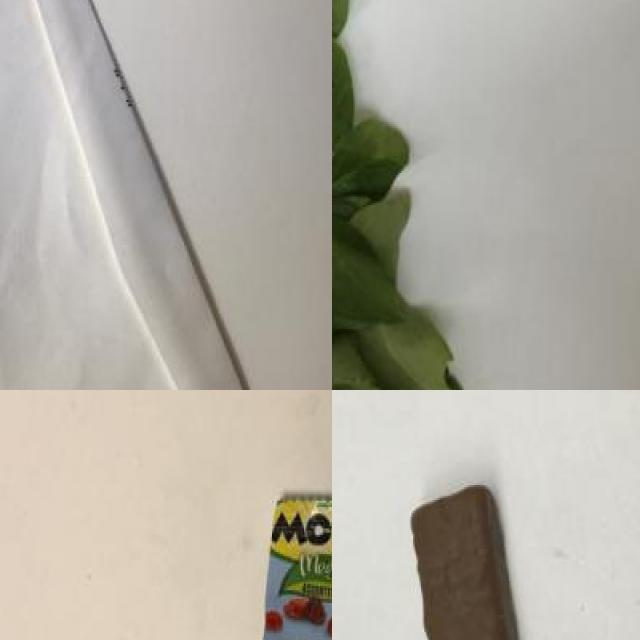compost: (332, 0, 517, 390), (384, 469, 579, 640)
paper: (0, 5, 312, 390)
trash: (231, 455, 332, 640)
